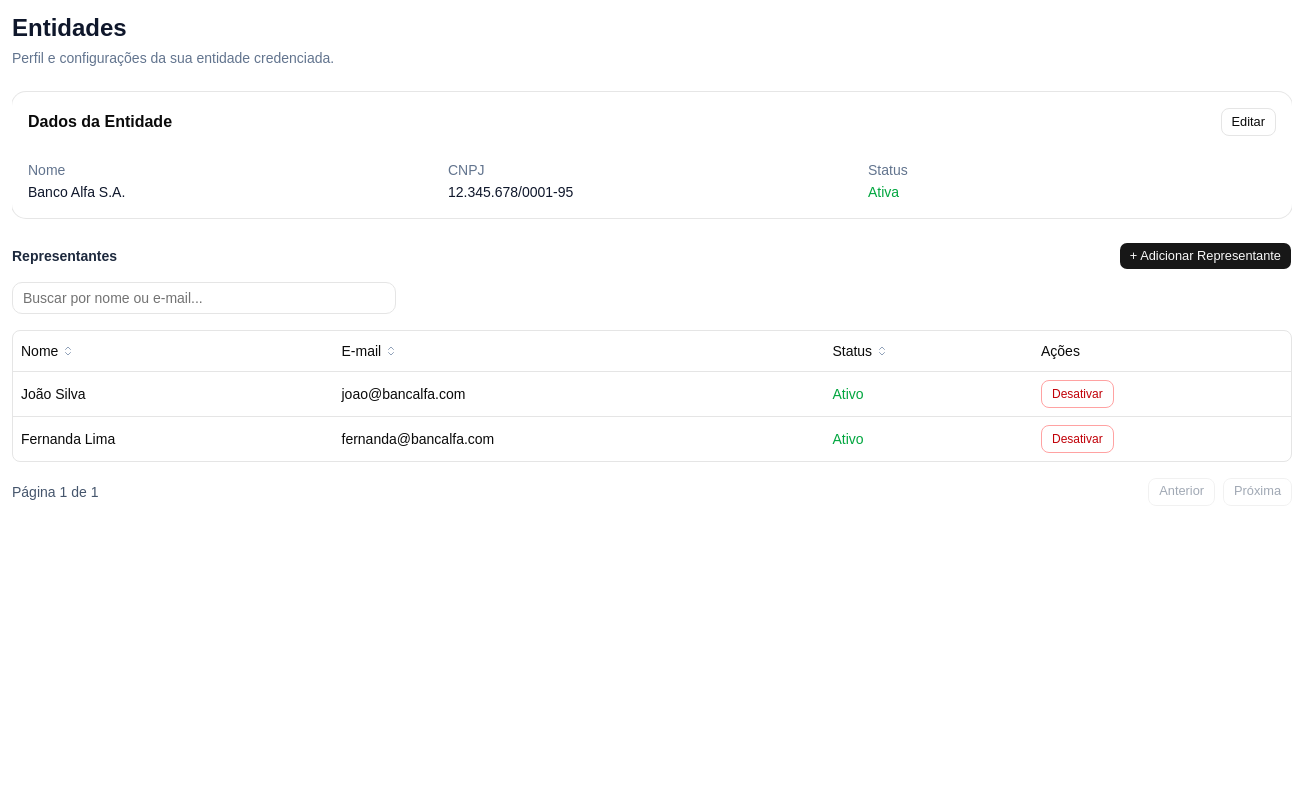
InstitutionsPage — representatives › shows add form when Adicionar Representante is clicked
Click the button "+ Adicionar Representante".
click(1205, 256)  # box [1119,242,1292,270]
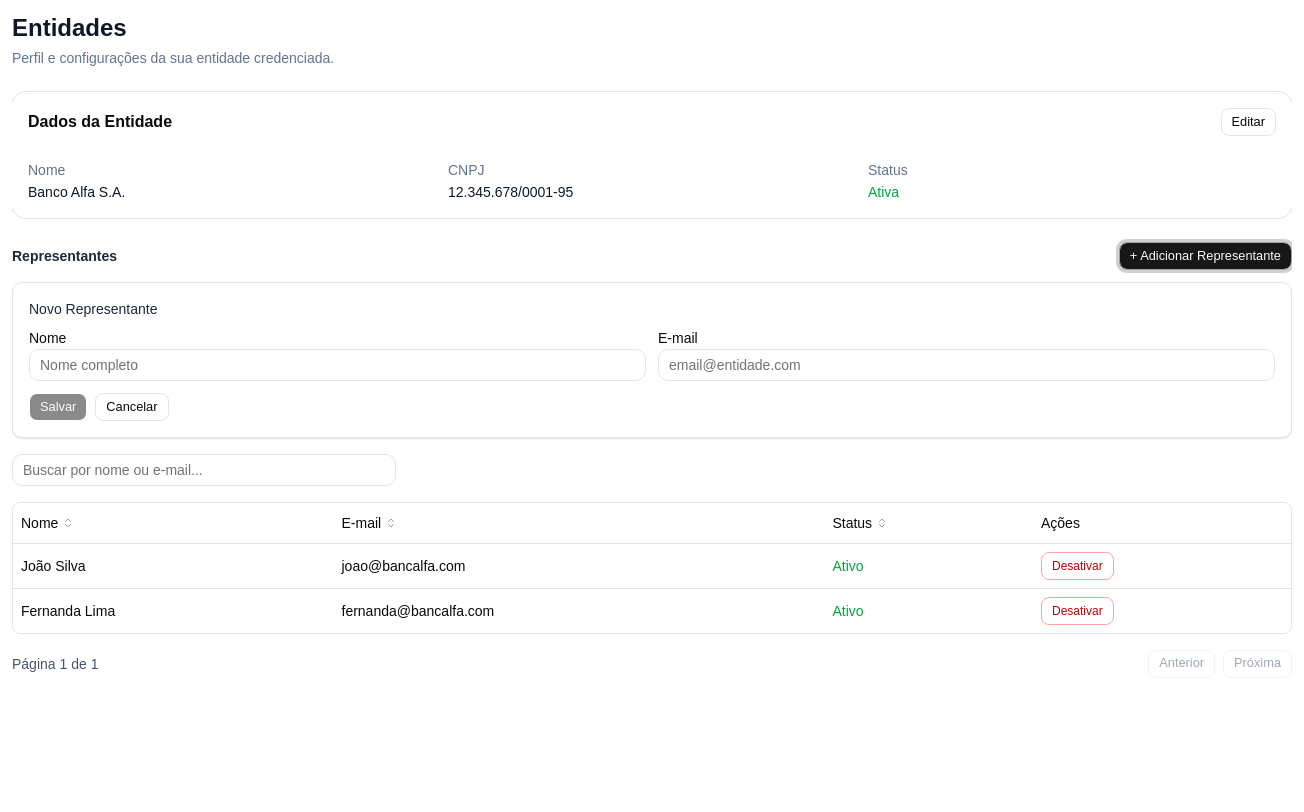
Check: the field labelled "Nome" is shown, box [29,349,646,381]
Check: the field labelled "E-mail" is shown, box [658,349,1275,381]
